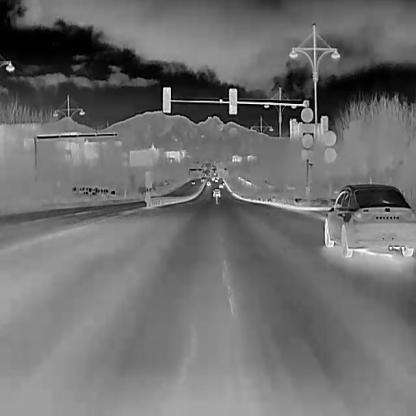car: (323, 181, 416, 258), (212, 187, 219, 197), (217, 181, 224, 188), (204, 180, 211, 186), (213, 176, 219, 182), (199, 176, 205, 182), (190, 179, 195, 184)
